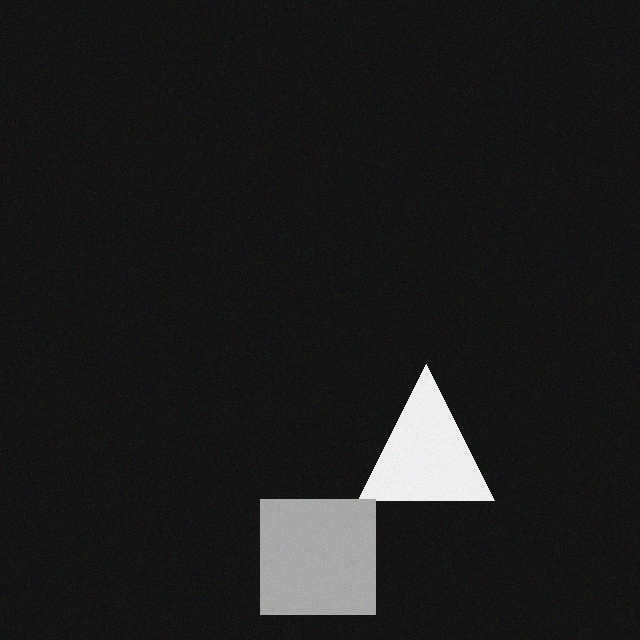square: (254, 493, 369, 608)
triangle: (352, 358, 488, 494)
